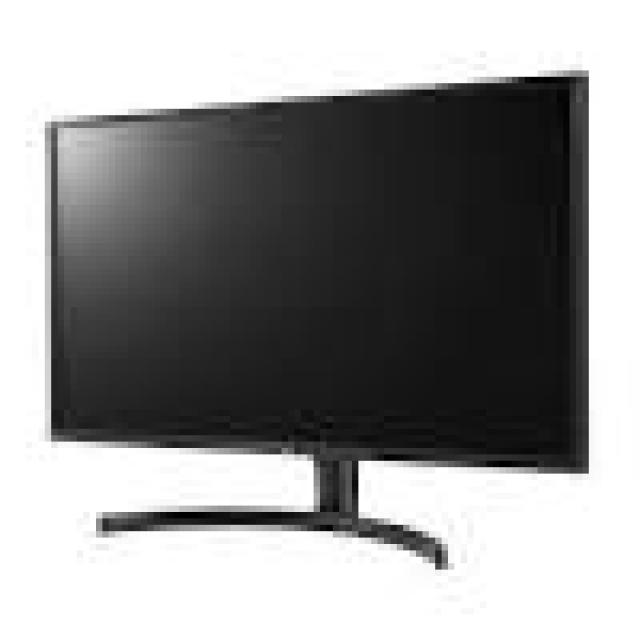monitor: (43, 63, 598, 564)
